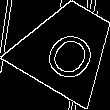O_NE: (34, 15, 100, 80)
